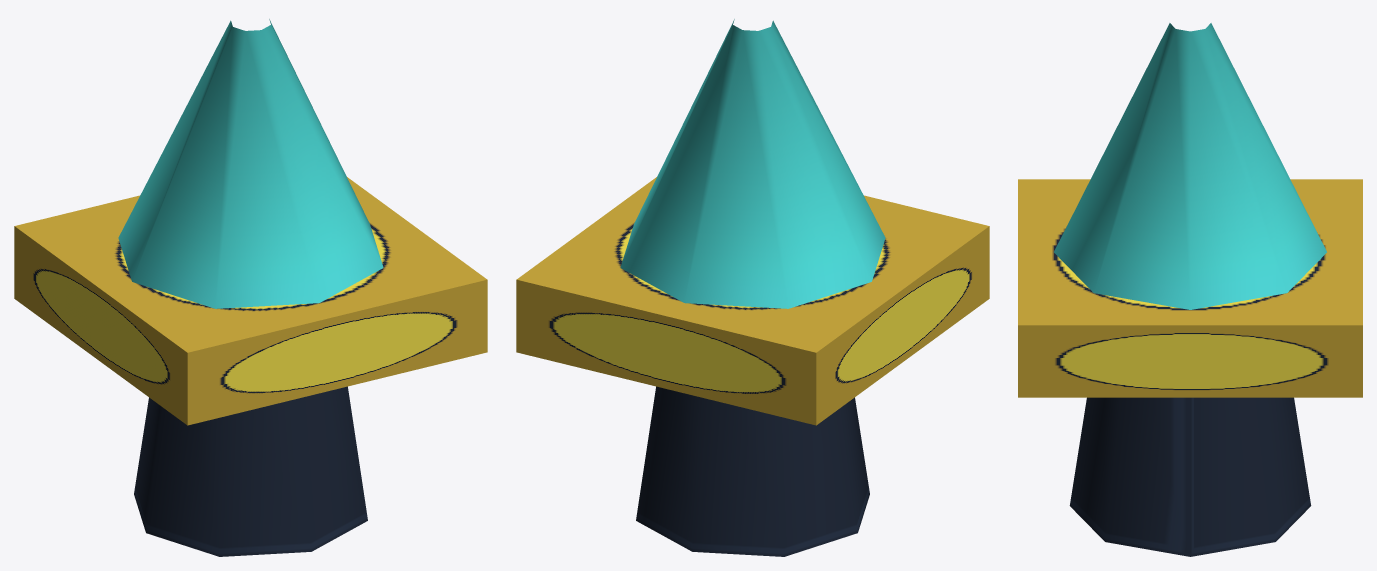
The model's file is consumable_mana_potion.glb.
3 renders of one model, left to right at view 1: azimuth 30°, elevation 25°; view 2: azimuth 150°, elevation 25°; view 3: azimuth 270°, elevation 25°, orthographic.
Visible parts, largest first — view 1: consumable_mana_potion; view 2: consumable_mana_potion; view 3: consumable_mana_potion.
Part boxes in pixels (left/top/right/bottom): consumable_mana_potion: left=14, top=19, right=487, bottom=556; consumable_mana_potion: left=516, top=19, right=989, bottom=556; consumable_mana_potion: left=1018, top=23, right=1362, bottom=556.
Size of the model in its own units: 0.22 by 0.34 by 0.22.
1 material, 1 textured.
